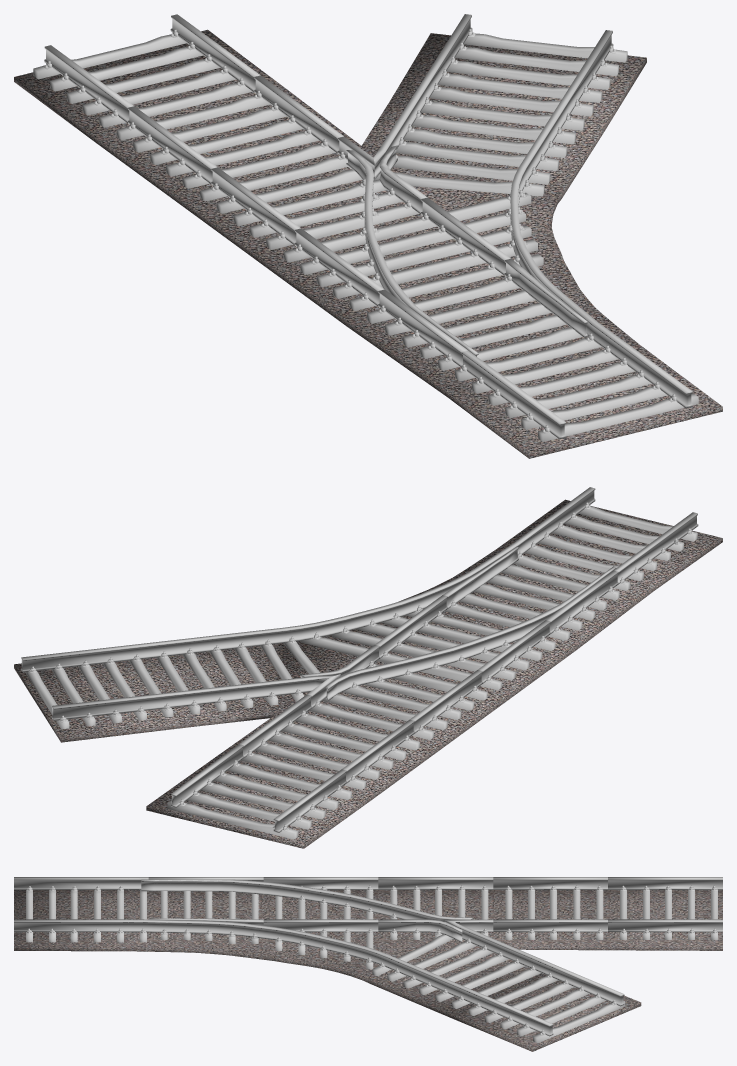
Rendered from track_fork2_right_concrete.fbx.
3 views of the same model, one above another, from view 1: azimuth 30°, elevation 25°; view 2: azimuth 150°, elevation 25°; view 3: azimuth 270°, elevation 25° (orthographic). The views are drawn at different scales.
Parts seen in each view (by area): view 1: concrete, ground, rails; view 2: concrete, ground, rails; view 3: ground, rails, concrete.
Boxes of the visible parts, box(x1,y1,x2,y2) form: concrete: box(33, 33, 698, 441); ground: box(14, 29, 722, 458); rails: box(43, 14, 692, 439); concrete: box(25, 506, 697, 839); ground: box(14, 499, 722, 848); rails: box(21, 487, 698, 832); ground: box(14, 890, 722, 1051); rails: box(14, 877, 722, 1036); concrete: box(26, 889, 717, 1043).
Size of the model in its own units: 7.29 by 0.39 by 13.12.
